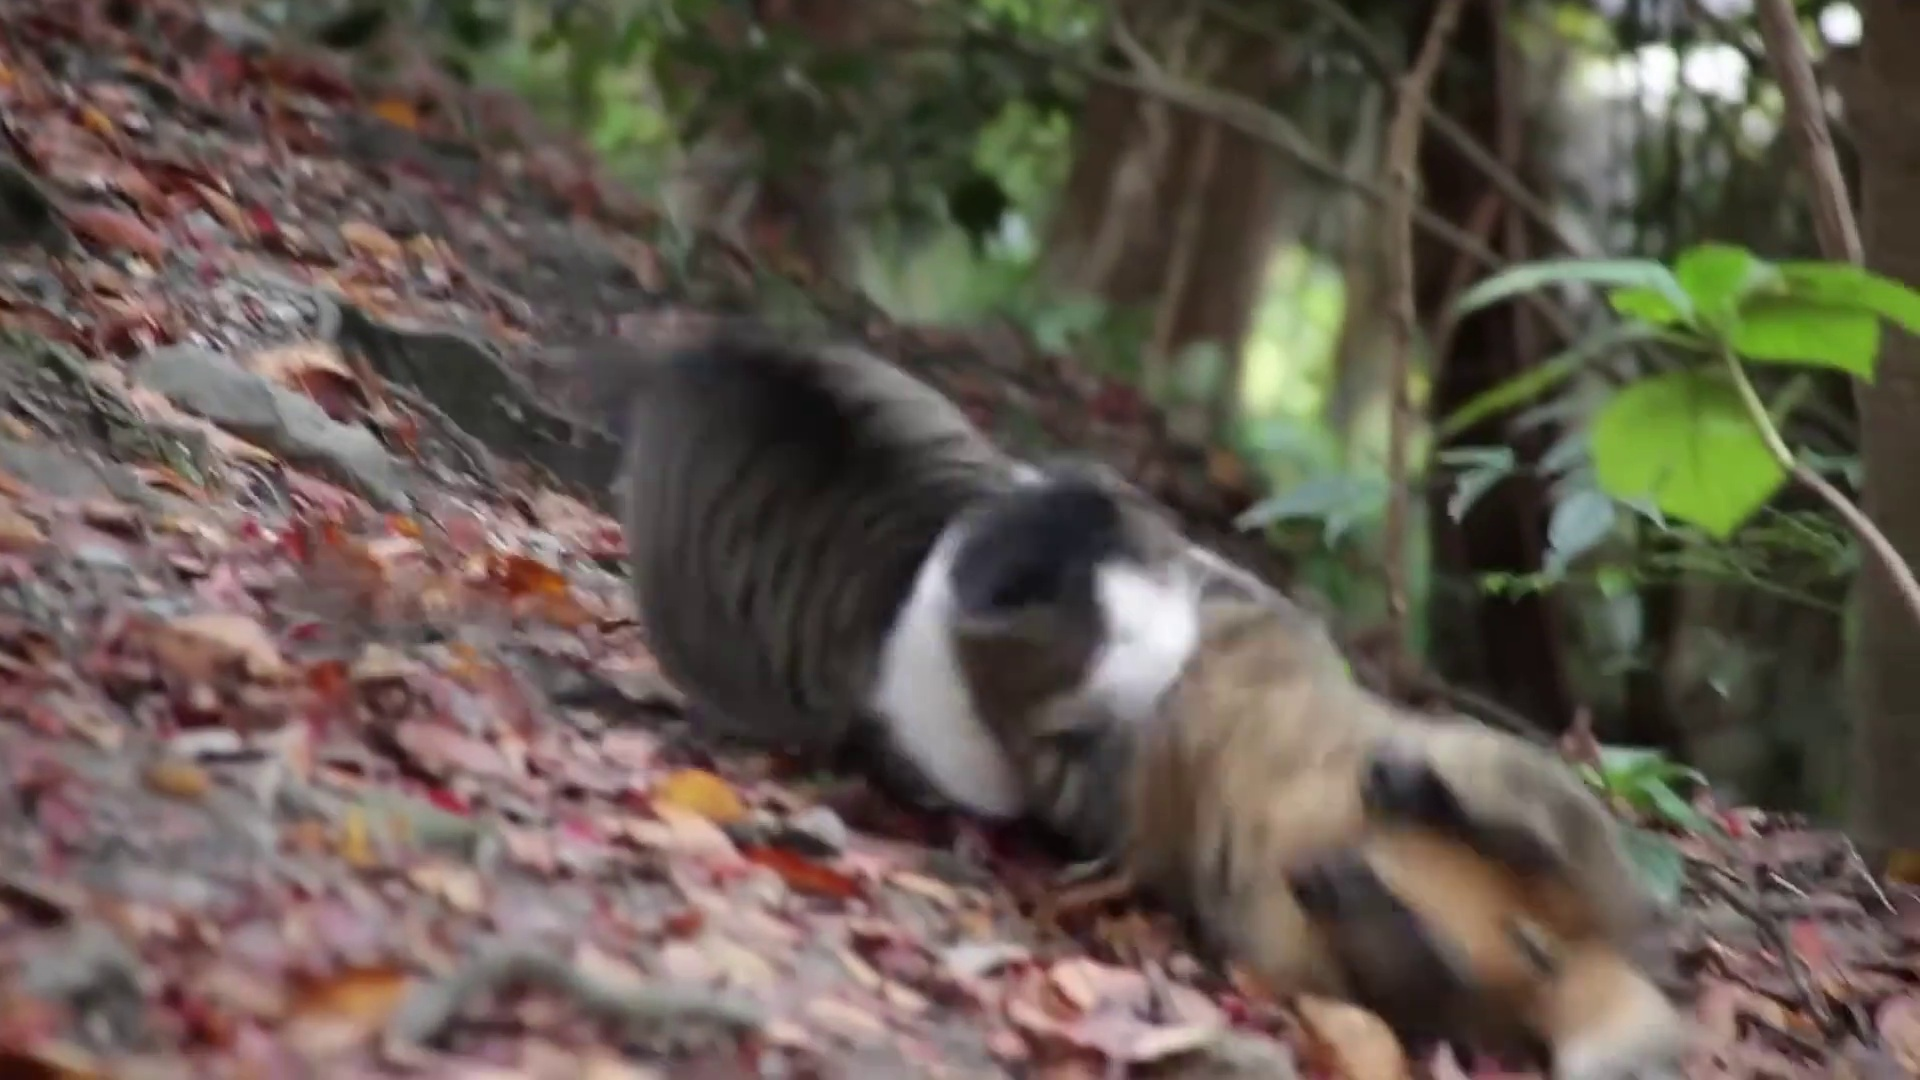black-white: (626, 339, 1199, 822)
pure black: (1084, 553, 1633, 1031)
